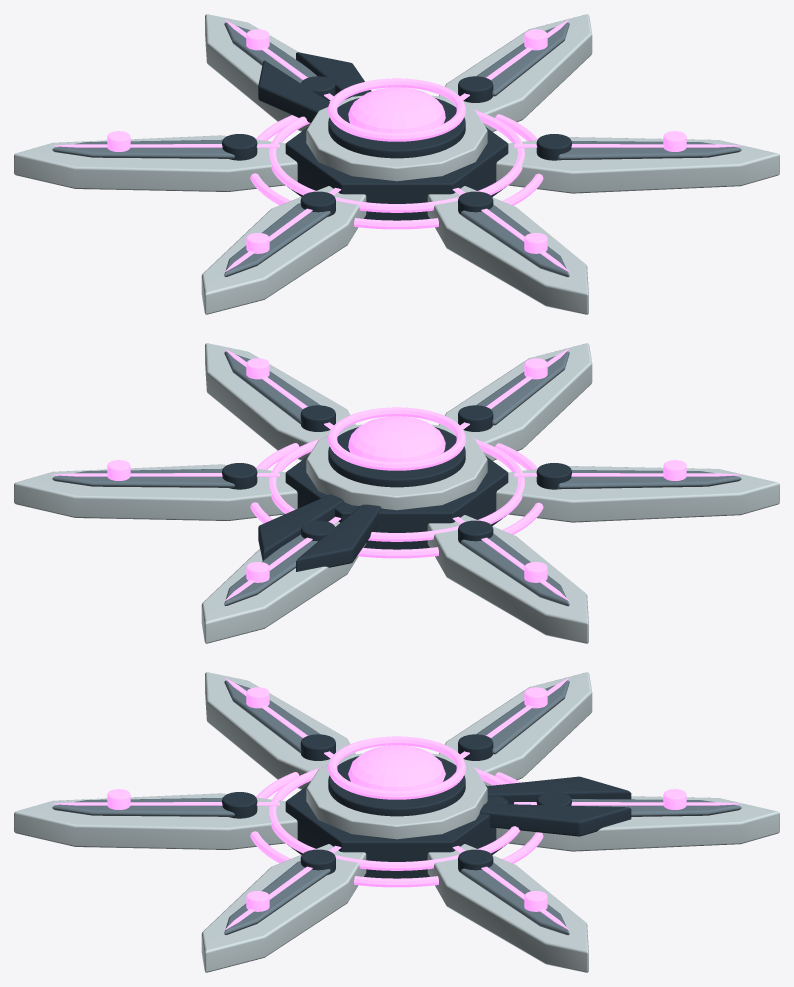
The model's file is Seraph.fbx.
The picture shows the model from 3 angles, top to bottom: view 1: azimuth 30°, elevation 25°; view 2: azimuth 150°, elevation 25°; view 3: azimuth 270°, elevation 25°; orthographic projection.
Parts seen in each view (by area): view 1: Seraph feather 2, Seraph feather 5, Seraph feather 3, Seraph feather 4, Hexagonal core vessel, Seraph feather 0, Core armored crown, Violet singularity, Seraph feather 1, Orbital conduit.001, Orbital conduit, Core recess (+17 smaller); view 2: Seraph feather 0, Seraph feather 3, Seraph feather 2, Seraph feather 1, Seraph feather 4, Seraph feather 5, Core armored crown, Hexagonal core vessel, Violet singularity, Orbital conduit, Core recess, Core forward fang (+17 smaller); view 3: Seraph feather 4, Seraph feather 5, Seraph feather 0, Seraph feather 1, Hexagonal core vessel, Seraph feather 3, Seraph feather 2, Core armored crown, Core forward fang.001, Violet singularity, Orbital conduit, Core recess (+16 smaller).
Boxes of the visible parts, x1=… form: Seraph feather 2: x1=14, y1=135, x2=297, y2=191; Seraph feather 5: x1=496, y1=137, x2=779, y2=193; Seraph feather 3: x1=201, y1=186, x2=366, y2=314; Seraph feather 4: x1=427, y1=186, x2=588, y2=314; Hexagonal core vessel: x1=285, y1=127, x2=508, y2=220; Seraph feather 0: x1=439, y1=14, x2=592, y2=131; Core armored crown: x1=306, y1=95, x2=487, y2=181; Violet singularity: x1=348, y1=87, x2=445, y2=132; Seraph feather 1: x1=205, y1=14, x2=330, y2=131; Orbital conduit.001: x1=269, y1=108, x2=524, y2=212; Orbital conduit: x1=328, y1=78, x2=465, y2=141; Core recess: x1=328, y1=98, x2=465, y2=158; Seraph feather 0: x1=14, y1=464, x2=297, y2=520; Seraph feather 3: x1=496, y1=466, x2=779, y2=522; Seraph feather 2: x1=427, y1=515, x2=588, y2=643; Seraph feather 1: x1=201, y1=521, x2=366, y2=643; Seraph feather 4: x1=439, y1=343, x2=592, y2=460; Seraph feather 5: x1=205, y1=343, x2=355, y2=460; Core armored crown: x1=306, y1=424, x2=487, y2=510; Hexagonal core vessel: x1=285, y1=456, x2=508, y2=549; Violet singularity: x1=348, y1=416, x2=445, y2=461; Orbital conduit: x1=328, y1=407, x2=465, y2=470; Core recess: x1=328, y1=427, x2=465, y2=487; Core forward fang: x1=296, y1=504, x2=381, y2=571; Seraph feather 4: x1=14, y1=793, x2=297, y2=849; Seraph feather 5: x1=201, y1=844, x2=366, y2=972; Seraph feather 0: x1=427, y1=844, x2=588, y2=972; Seraph feather 1: x1=496, y1=796, x2=779, y2=851; Hexagonal core vessel: x1=285, y1=785, x2=508, y2=878; Seraph feather 3: x1=205, y1=672, x2=355, y2=789; Seraph feather 2: x1=439, y1=672, x2=592, y2=785; Core armored crown: x1=306, y1=753, x2=487, y2=839; Core forward fang.001: x1=479, y1=803, x2=631, y2=836; Violet singularity: x1=348, y1=745, x2=445, y2=790; Orbital conduit: x1=328, y1=736, x2=465, y2=799; Core recess: x1=328, y1=756, x2=465, y2=816.
Size of the model in its own units: 907 by 136 by 1047.
